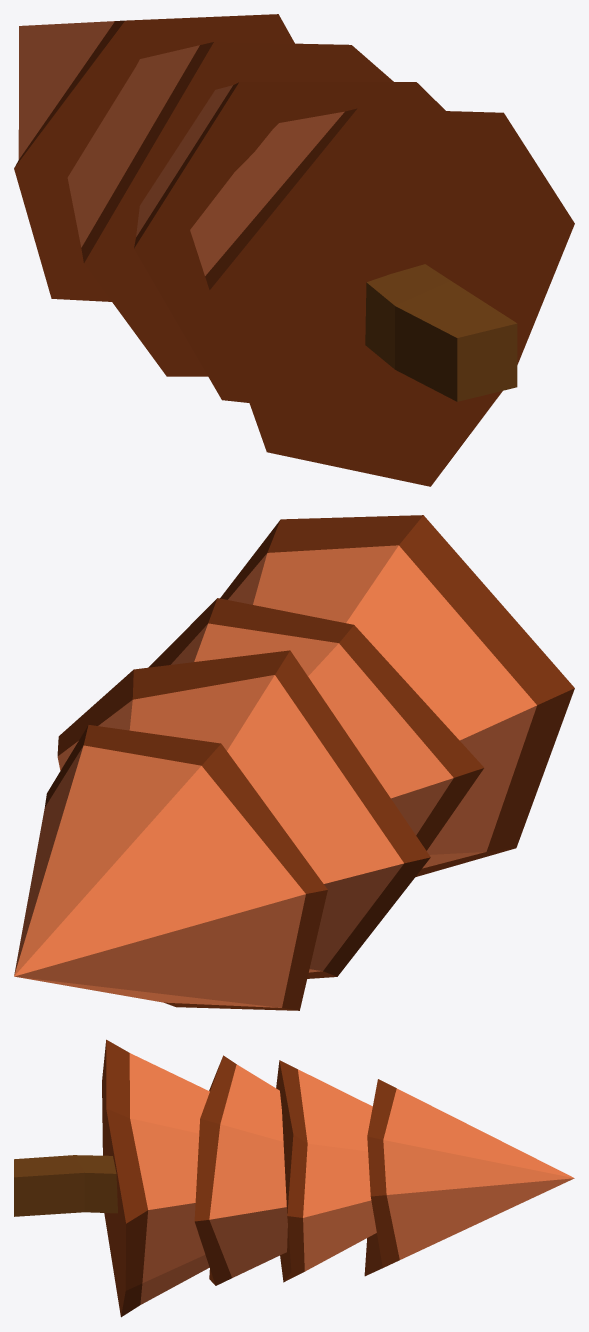
Rendered from Tree.fbx.
The picture shows the model from 3 angles, top to bottom: view 1: azimuth 30°, elevation 25°; view 2: azimuth 150°, elevation 25°; view 3: azimuth 270°, elevation 25°; orthographic projection. The views are drawn at different scales.
Parts seen in each view (by area): view 1: Cone.004; view 2: Cone.004; view 3: Cone.004.
Boxes of the visible parts, left/top/right/bottom form: Cone.004: left=14, top=14, right=574, bottom=486; Cone.004: left=14, top=515, right=574, bottom=1010; Cone.004: left=14, top=1039, right=574, bottom=1317.
Bounding box in the file's own units: 0.7168 × 0.726 × 1.46.
